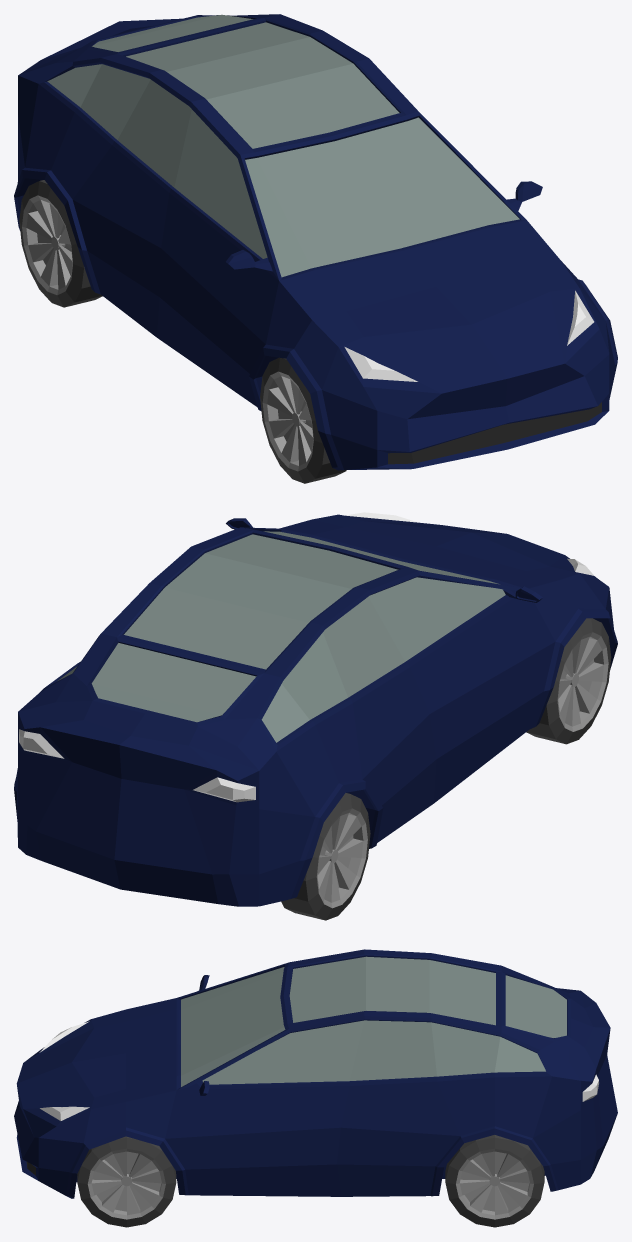
File: Car01.fbx
3 views of the same model, one above another, from view 1: azimuth 30°, elevation 25°; view 2: azimuth 150°, elevation 25°; view 3: azimuth 270°, elevation 25° (orthographic). The views are drawn at different scales.
Visible parts, largest first — view 1: car; view 2: car; view 3: car.
Boxes of the visible parts, x1,y1,x2,y2 form: car: (14,14,617,483); car: (14,512,617,920); car: (14,949,617,1227).
Bounding box in the file's own units: 457 × 348 × 994.
